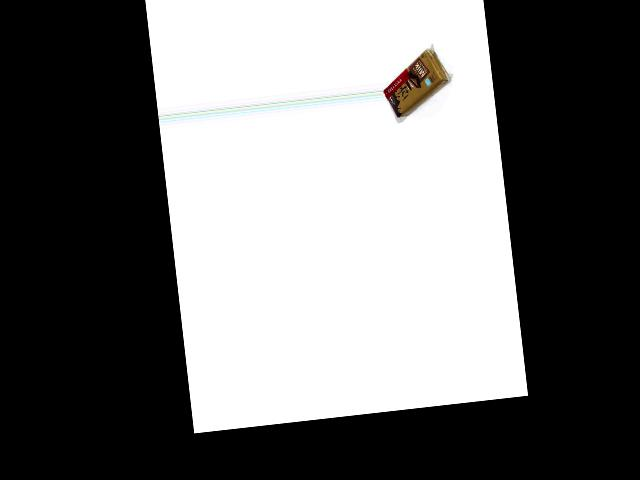chocolate: (379, 39, 453, 120)
